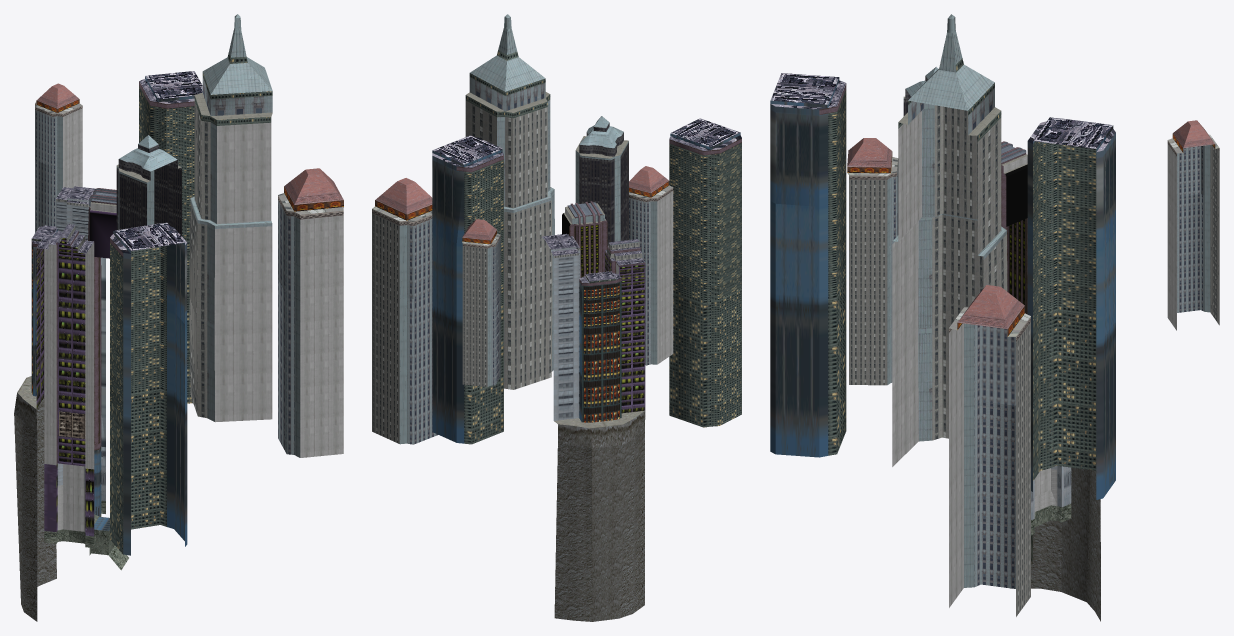
File: STG0100_OS_17.fbx
3 views of the same model, side by side, from view 1: azimuth 30°, elevation 25°; view 2: azimuth 150°, elevation 25°; view 3: azimuth 270°, elevation 25° (orthographic). The views are drawn at different scales.
Visible parts, largest first — view 1: STG0100_OS_17_default; view 2: STG0100_OS_17_default; view 3: STG0100_OS_17_default.
Boxes of the visible parts, x1,y1,x2,y2 form: STG0100_OS_17_default: [14, 14, 343, 621]; STG0100_OS_17_default: [372, 14, 741, 621]; STG0100_OS_17_default: [770, 14, 1219, 621].
Size of the model in its own units: 3066 by 5601 by 3386.
